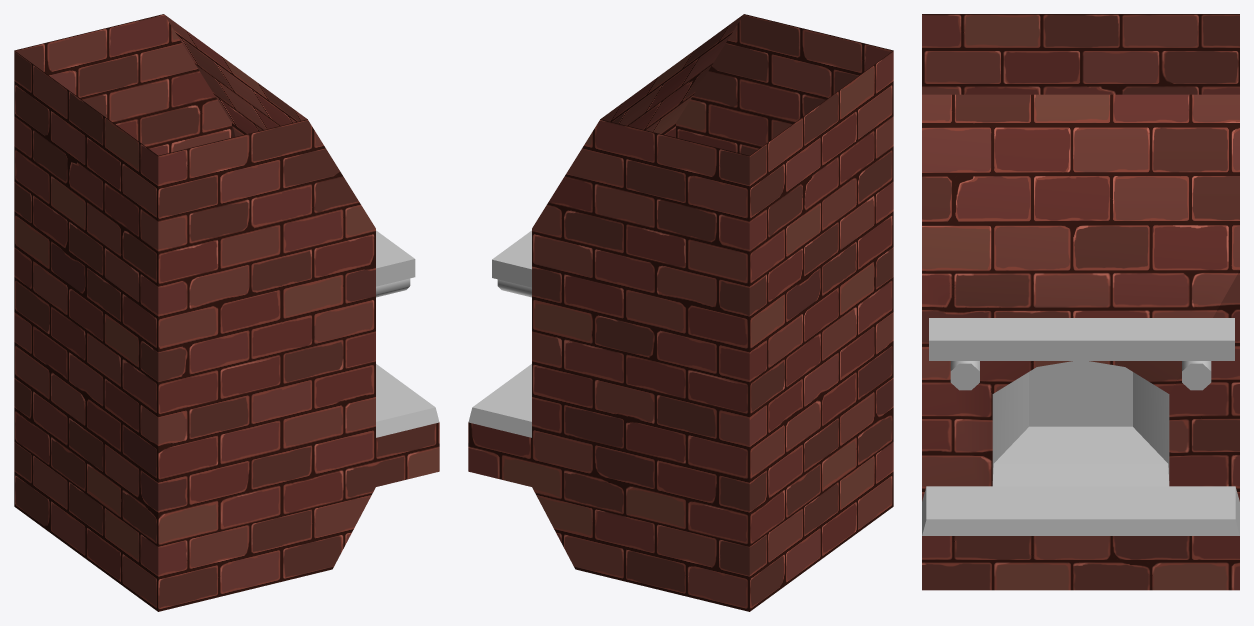
File: chimney_bottom_B.fbx
The picture shows the model from 3 angles, left to right: view 1: azimuth 30°, elevation 25°; view 2: azimuth 150°, elevation 25°; view 3: azimuth 270°, elevation 25°; orthographic projection. The views are drawn at different scales.
Parts seen in each view (by area): view 1: chimney_bottom_B; view 2: chimney_bottom_B; view 3: chimney_bottom_B.
Boxes of the visible parts, x1,y1,x2,y2 form: chimney_bottom_B: [14, 14, 439, 611]; chimney_bottom_B: [468, 14, 893, 611]; chimney_bottom_B: [922, 14, 1239, 590].
Bounding box in the file's own units: 226 × 350 × 200.
